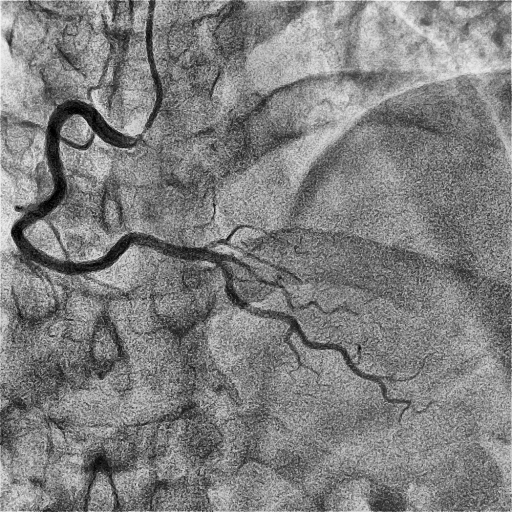pda: (208, 257, 411, 424)
rca: (10, 100, 213, 276)
